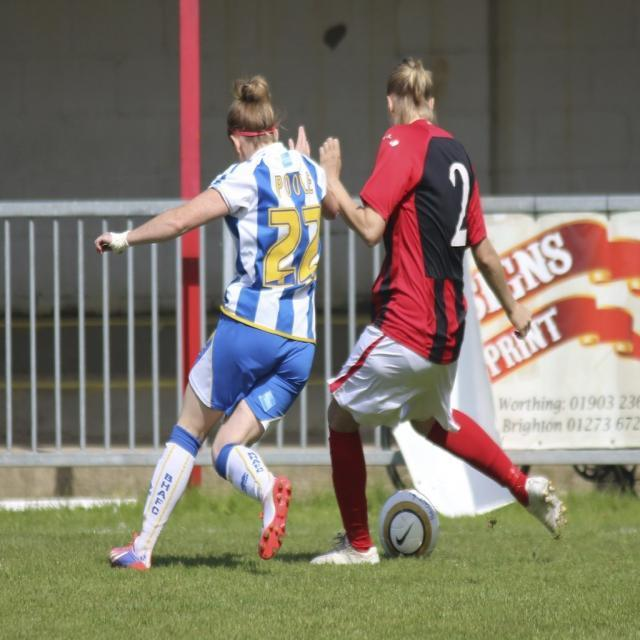football: (366, 477, 468, 580)
